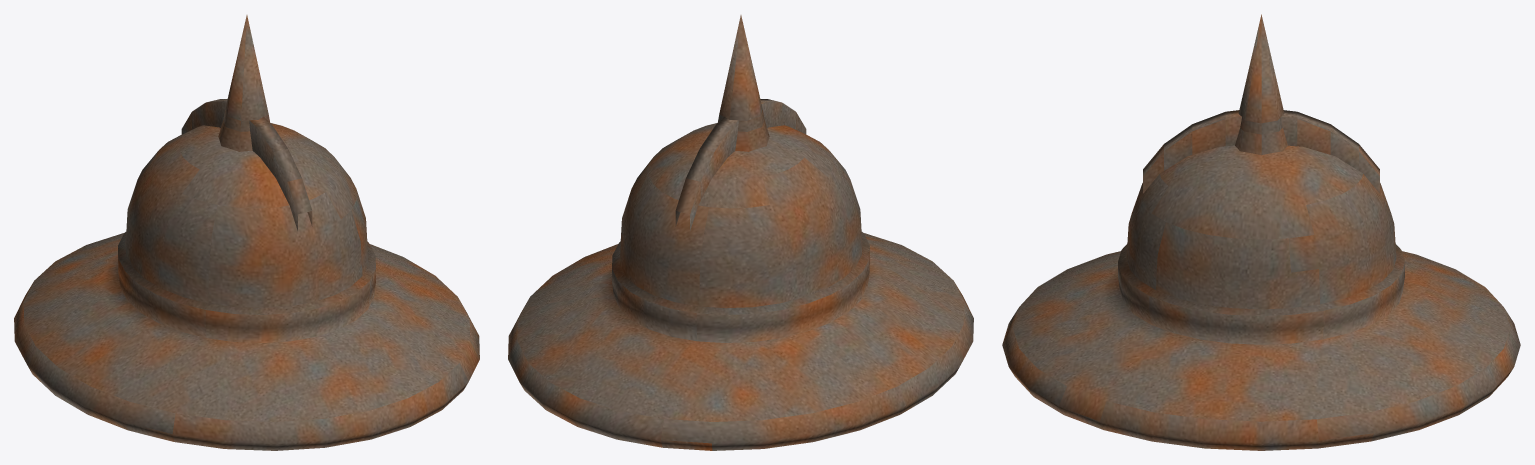
File: skeleton_helm.glb
3 views of the same model, side by side, from view 1: azimuth 30°, elevation 25°; view 2: azimuth 150°, elevation 25°; view 3: azimuth 270°, elevation 25° (orthographic).
Parts seen in each view (by area): view 1: skeleton_helm_solo; view 2: skeleton_helm_solo; view 3: skeleton_helm_solo.
Boxes of the visible parts, x1,y1,x2,y2 form: skeleton_helm_solo: (14,15,479,450); skeleton_helm_solo: (508,15,973,450); skeleton_helm_solo: (1002,14,1520,450).
Size of the model in its own units: 0.484 by 0.394 by 0.5421.
Materials: 1 (1 with a texture image).
